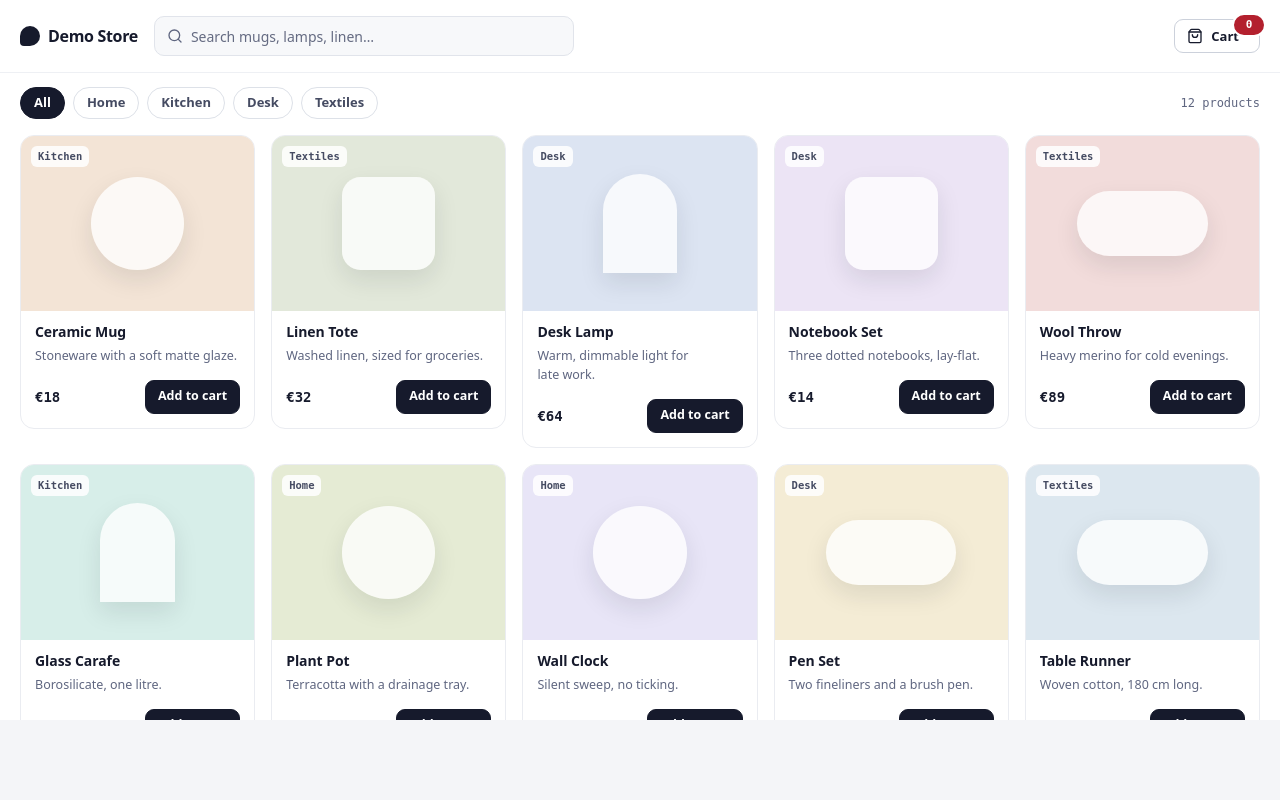
Scenario: Demo Store › shows an empty state and clears the search
This screenshot has width=1280, height=800.
Later steps or results of the test are not shown.
In the search field: point(376, 36) [191,17,561,55], type "teapot"
Wait 700 ms
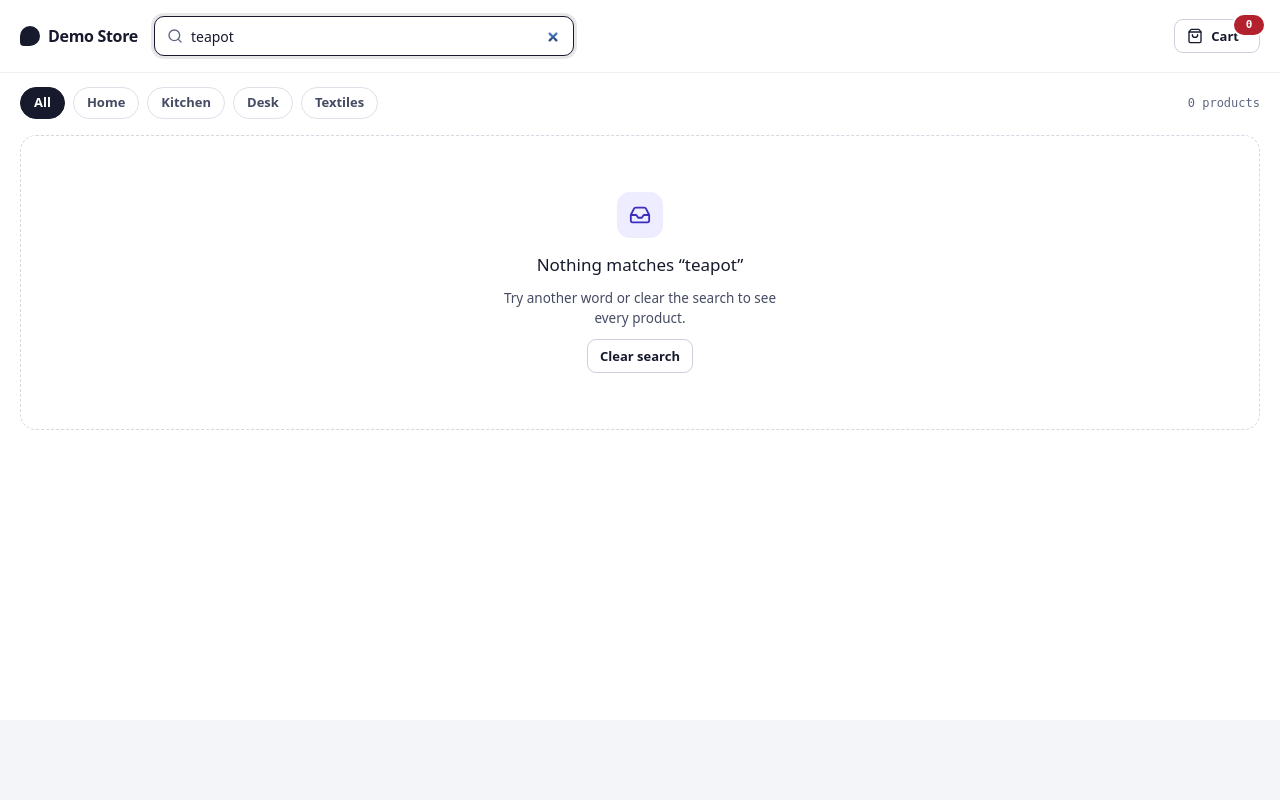
Result: the heading "Nothing matches “teapot”" is shown at [537,252,743,278]
